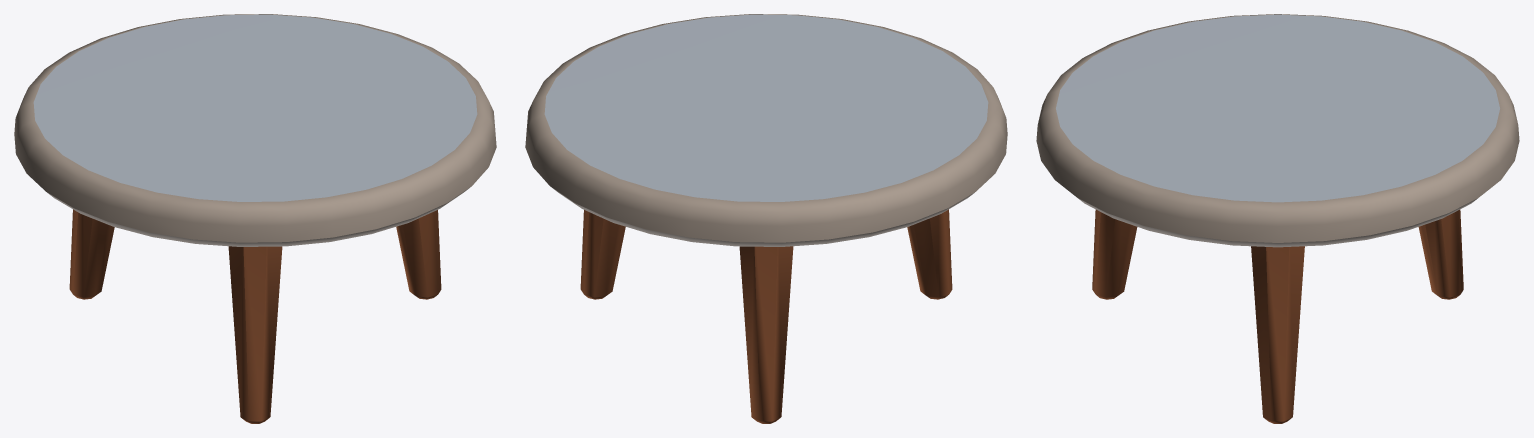
Rendered from mesa_centro_natal_redonda_pacote.glb.
3 renders of one model, left to right at view 1: azimuth 30°, elevation 25°; view 2: azimuth 150°, elevation 25°; view 3: azimuth 270°, elevation 25°, orthographic.
Parts seen in each view (by area): view 1: mesa_centro_natal_redonda_pacote; view 2: mesa_centro_natal_redonda_pacote; view 3: mesa_centro_natal_redonda_pacote.
Boxes of the visible parts, left/top/right/bottom form: mesa_centro_natal_redonda_pacote: left=14, top=14, right=496, bottom=423; mesa_centro_natal_redonda_pacote: left=525, top=14, right=1007, bottom=423; mesa_centro_natal_redonda_pacote: left=1036, top=14, right=1519, bottom=423.
Size of the model in its own units: 0.8041 by 0.4234 by 0.8041.
1 material, 1 textured.
